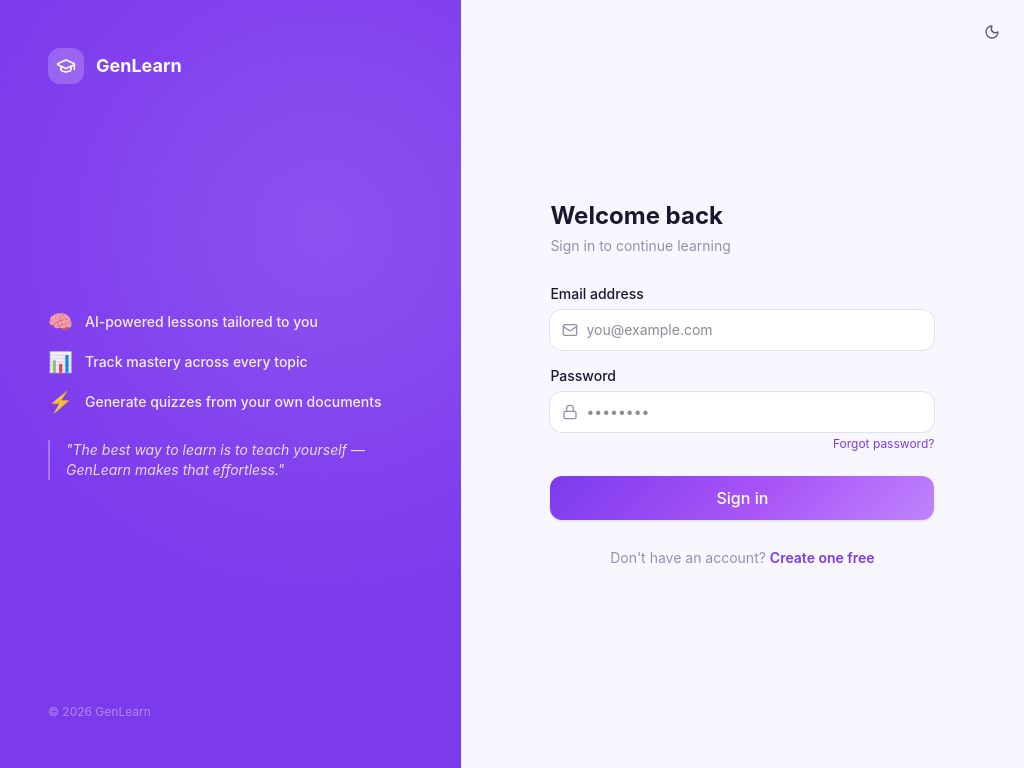
Test: LoginPage › shows validation error for invalid email
The image size is (1024, 768).
Type "not-an-email" into the field labelled "Email address" at (742, 330), box x1=550 y1=310 x2=934 y2=350
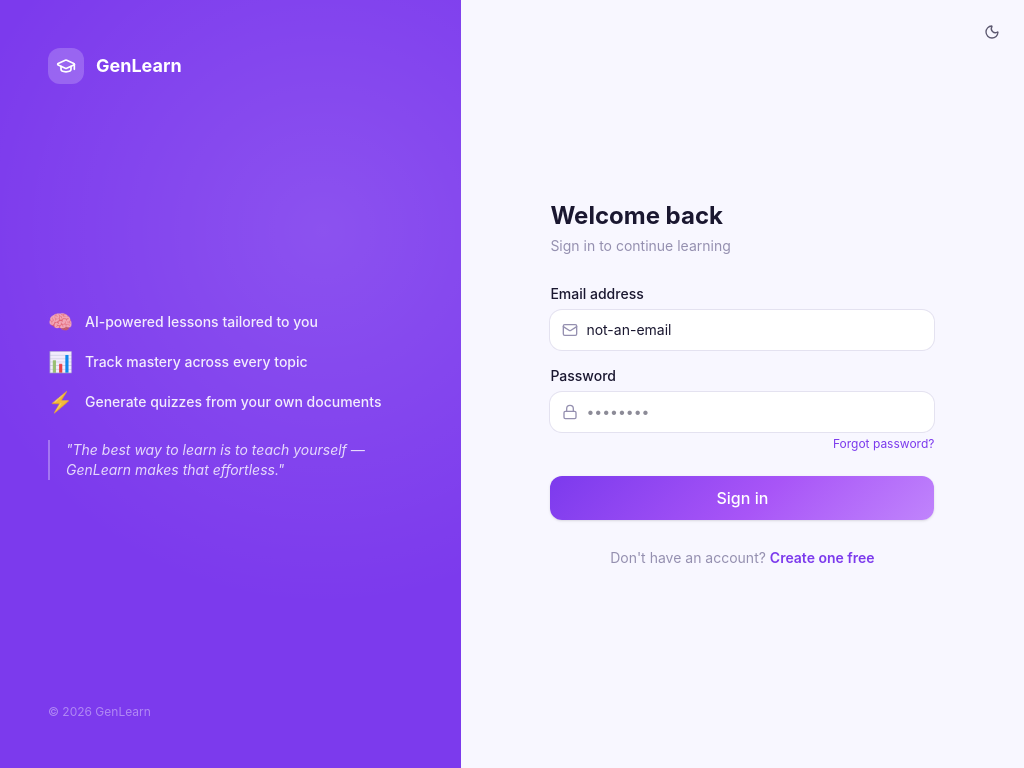
Type "pass" into the password field labelled "Password" at (742, 412), box x1=550 y1=392 x2=934 y2=432
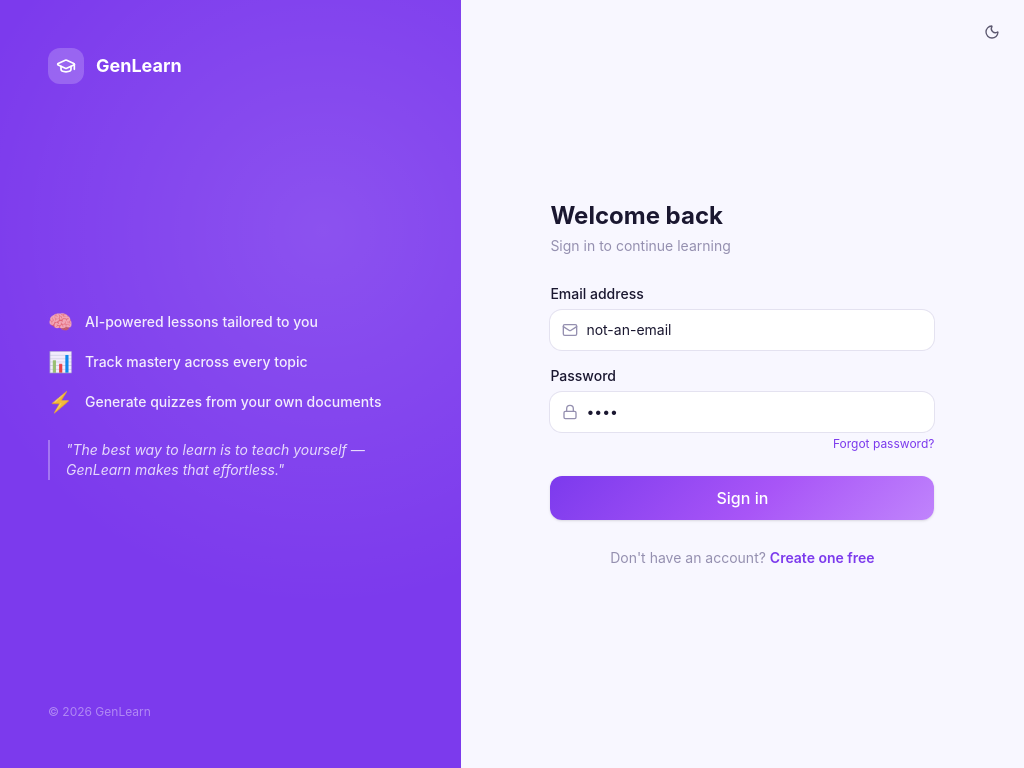
Submit the form from the button "Sign in", box x1=550 y1=476 x2=934 y2=520
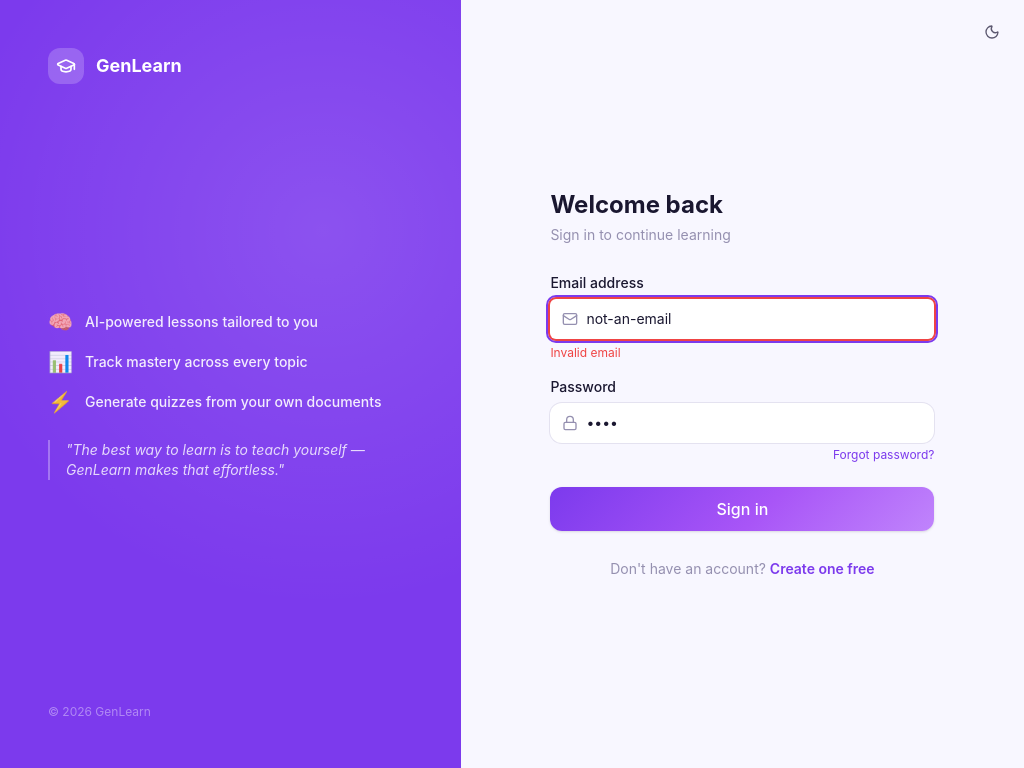
Now the text "Invalid email" is shown, box x1=550 y1=345 x2=621 y2=360
